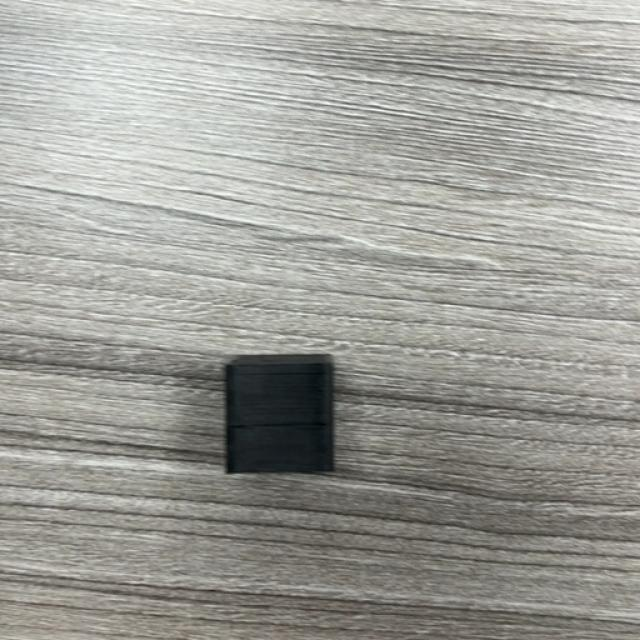Negro: (225, 355, 336, 476)
